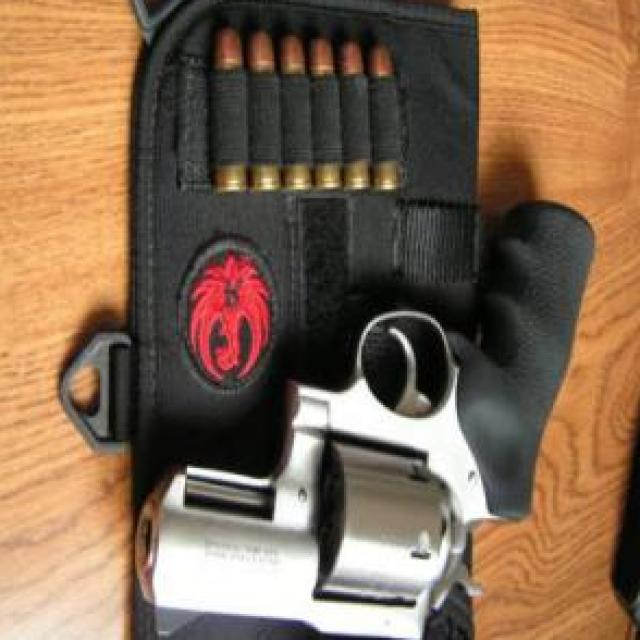pistol: (128, 199, 600, 640)
